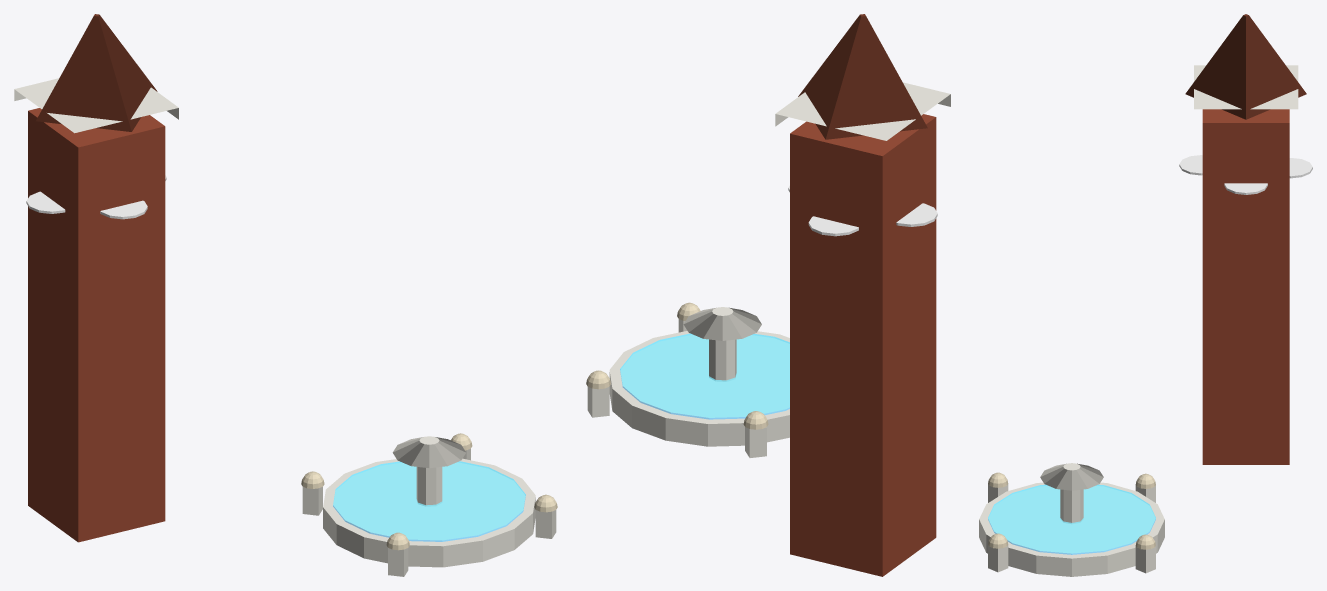
The model's file is terraza.glb.
3 views of the same model, side by side, from view 1: azimuth 30°, elevation 25°; view 2: azimuth 150°, elevation 25°; view 3: azimuth 270°, elevation 25° (orthographic). The views are drawn at different scales.
Parts seen in each view (by area): view 1: terraza_lod0; view 2: terraza_lod0; view 3: terraza_lod0.
Part boxes in pixels (box(x1,y1,x2,y2)): terraza_lod0: box(14, 14, 557, 576); terraza_lod0: box(586, 14, 950, 576); terraza_lod0: box(979, 14, 1312, 576).
Size of what is drawn, in the model's own units: 13.5 by 16.4 by 11.5.
